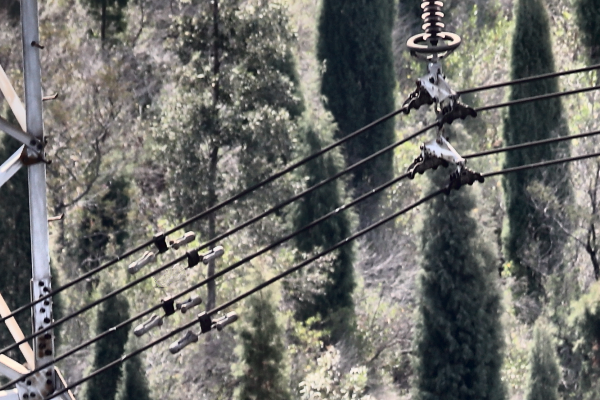damper: (165, 310, 240, 356), (124, 229, 196, 275), (131, 292, 202, 337)
damper_defect: (174, 244, 225, 276)
